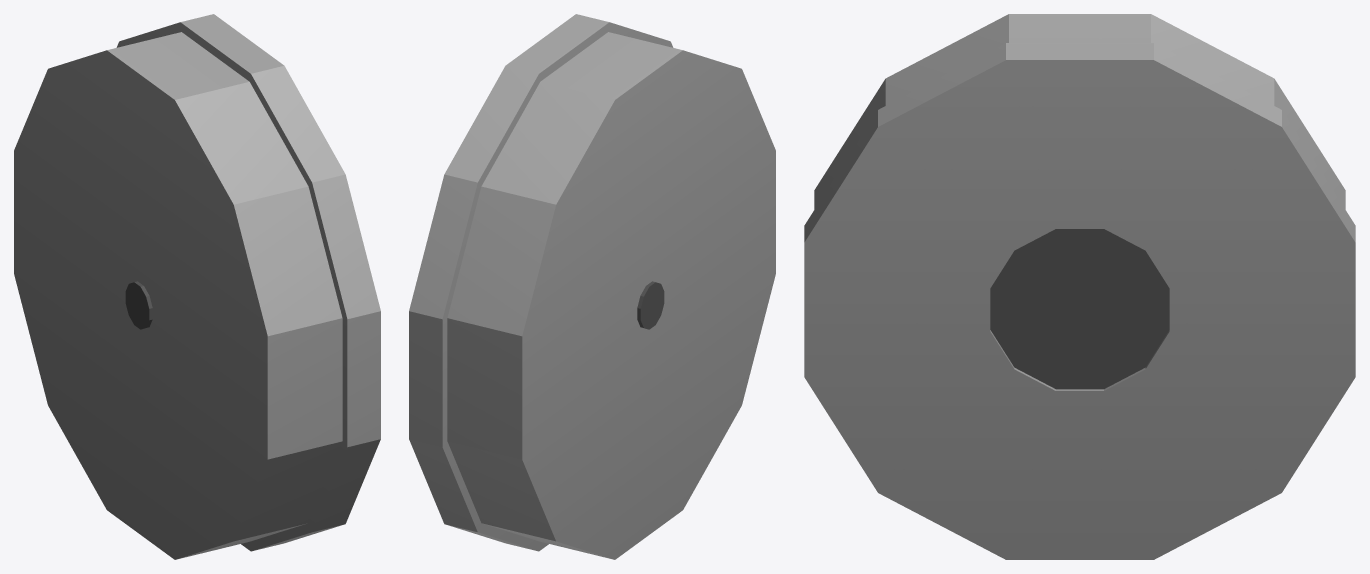
File: LMG4_05_2.fbx
3 renders of one model, left to right at view 1: azimuth 30°, elevation 25°; view 2: azimuth 150°, elevation 25°; view 3: azimuth 270°, elevation 25°, orthographic. The views are drawn at different scales.
Visible parts, largest first — view 1: LMG4_05_2; view 2: LMG4_05_2; view 3: LMG4_05_2.
Boxes of the visible parts, x1,y1,x2,y2 form: LMG4_05_2: (14,14,380,559); LMG4_05_2: (409,14,775,559); LMG4_05_2: (804,14,1355,559).
Size of the model in its own units: 0.0473 by 0.193 by 0.193.
